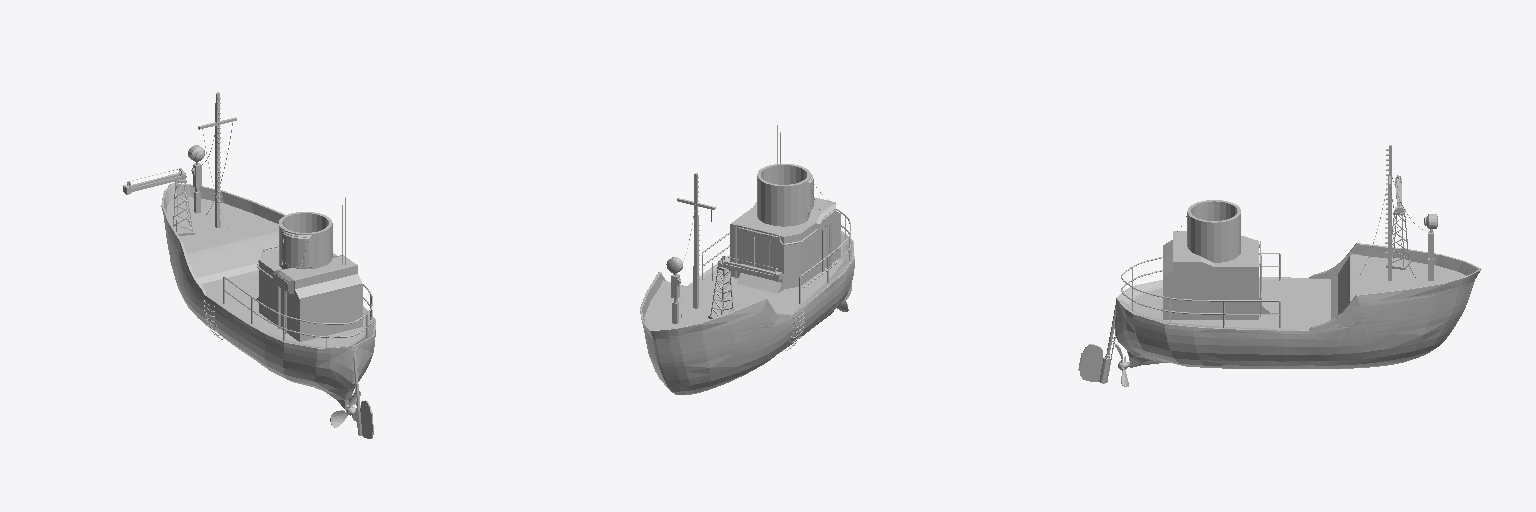
Rendered from Ship_UV.obj.
3 renders of one model, left to right at view 1: azimuth 30°, elevation 25°; view 2: azimuth 150°, elevation 25°; view 3: azimuth 270°, elevation 25°, orthographic.
Visible parts, largest first — view 1: Ship; view 2: Ship; view 3: Ship.
Part boxes in pixels (bbox=[...]): Ship: bbox=[123, 92, 375, 438]; Ship: bbox=[640, 125, 854, 394]; Ship: bbox=[1078, 145, 1481, 386].
Size of the model in its own units: 6.15 by 9.69 by 14.95.